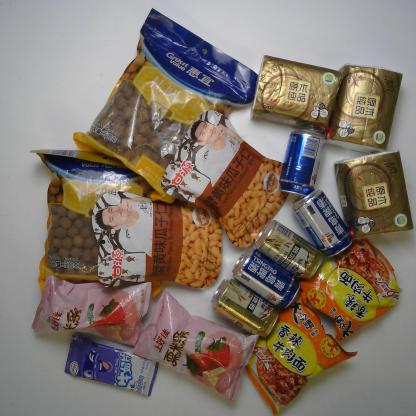Alcohol: (231, 247, 300, 310), (254, 219, 324, 281), (291, 189, 353, 258), (210, 278, 280, 339), (279, 127, 326, 197)
Candy: (64, 334, 159, 397)
Dried Food: (72, 6, 261, 205), (29, 148, 153, 298)
Dried Fruit: (160, 109, 291, 250), (91, 190, 223, 290)
Instant Noodles: (235, 291, 358, 416), (298, 237, 404, 342)
Puffed Food: (132, 288, 260, 404), (29, 274, 153, 348)
Tissue: (249, 53, 344, 138), (334, 149, 414, 241), (324, 64, 403, 154)
